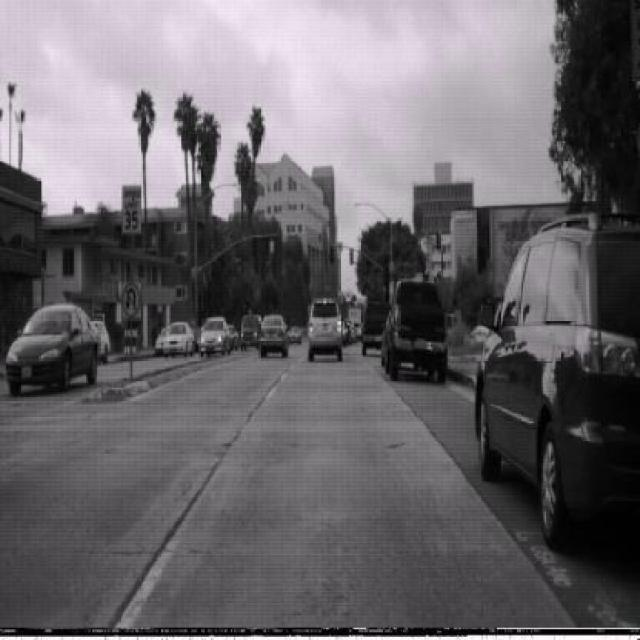speedLimit35: (122, 183, 143, 234)
